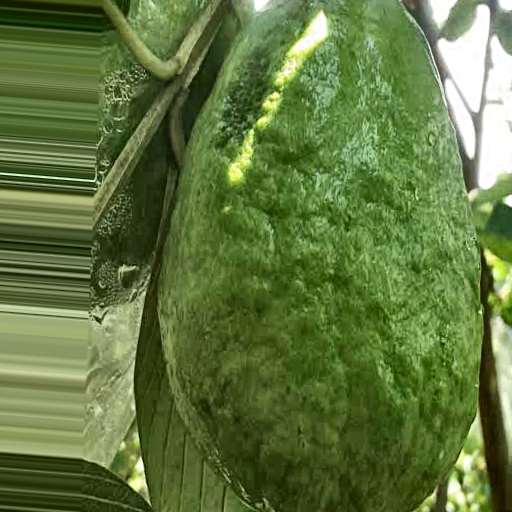guava: (89, 35, 467, 432)
